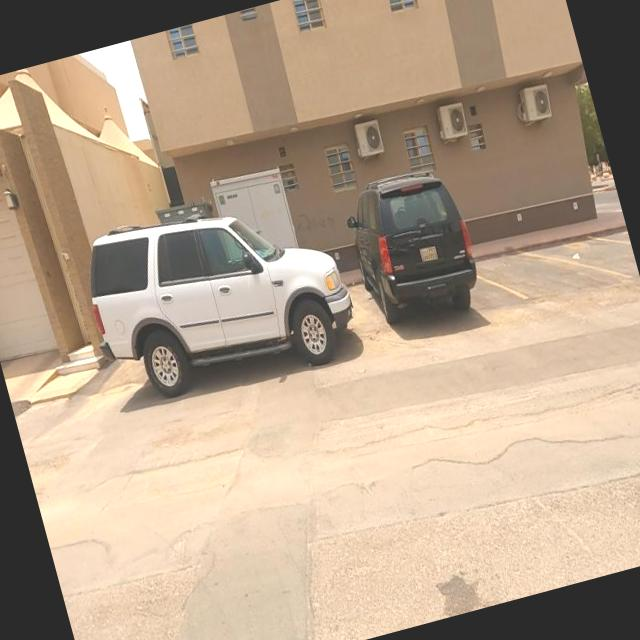debris: (550, 230, 602, 292)
